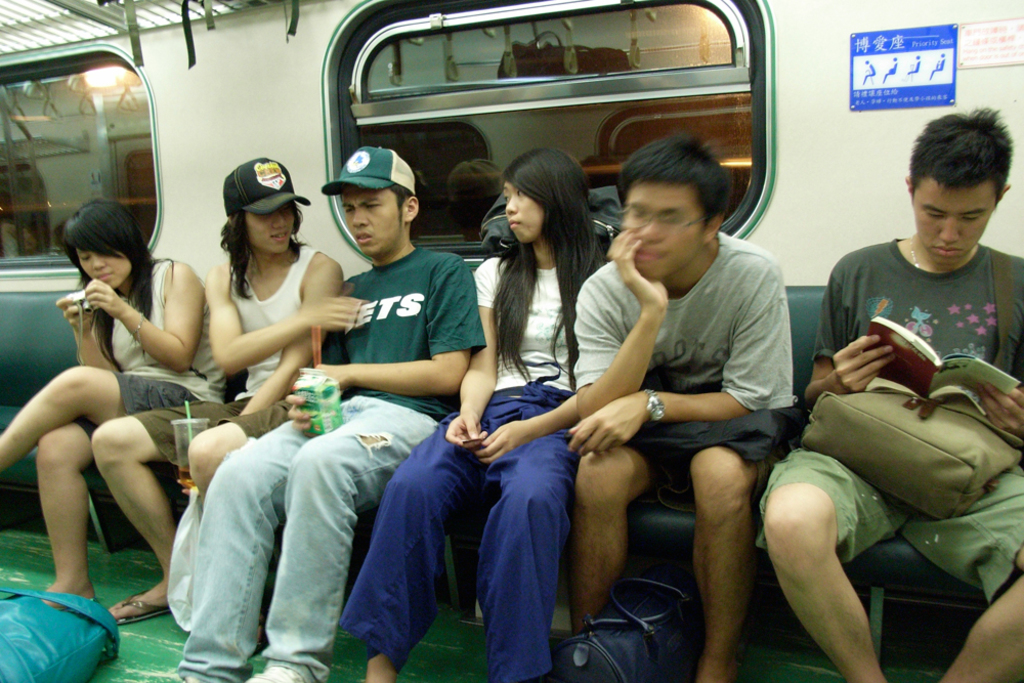Human_hand: (601, 229, 673, 310), (564, 394, 648, 460), (829, 332, 899, 396), (303, 279, 364, 335), (474, 420, 536, 465), (975, 383, 1023, 437), (442, 408, 488, 454), (83, 278, 127, 318), (52, 295, 93, 332), (314, 361, 353, 393), (284, 391, 311, 433), (174, 468, 196, 494)
